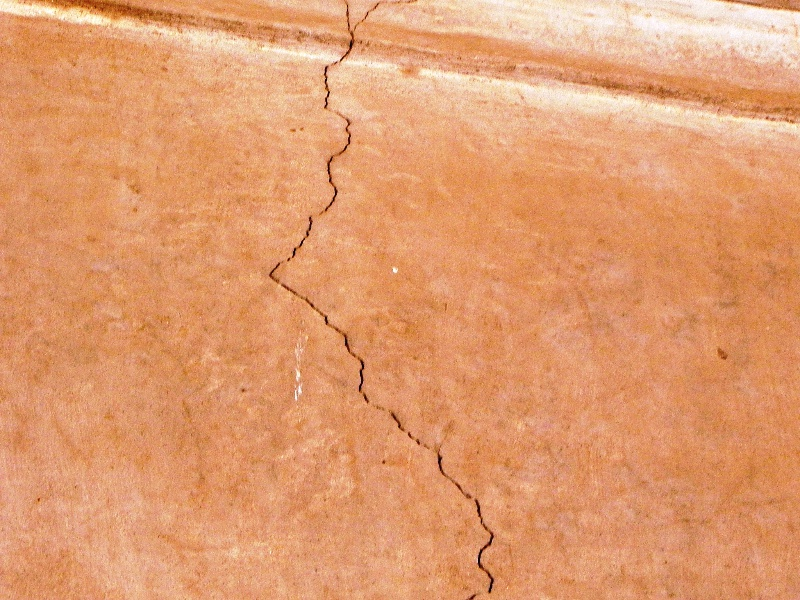Crack: (241, 2, 499, 599)
